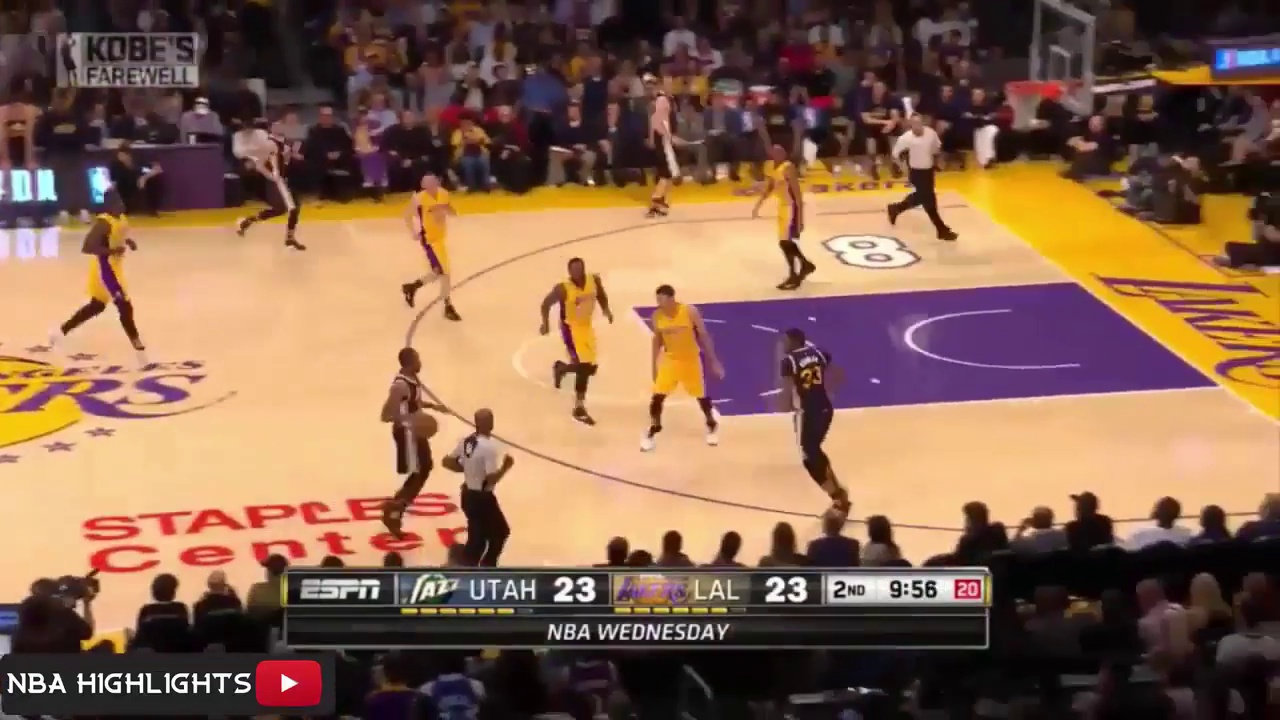jazz: (767, 330, 865, 527), (374, 344, 447, 530), (238, 124, 323, 254), (629, 71, 695, 224)
lakers: (59, 186, 167, 381), (636, 286, 727, 451), (539, 246, 614, 429), (746, 139, 825, 289), (398, 165, 463, 319)
